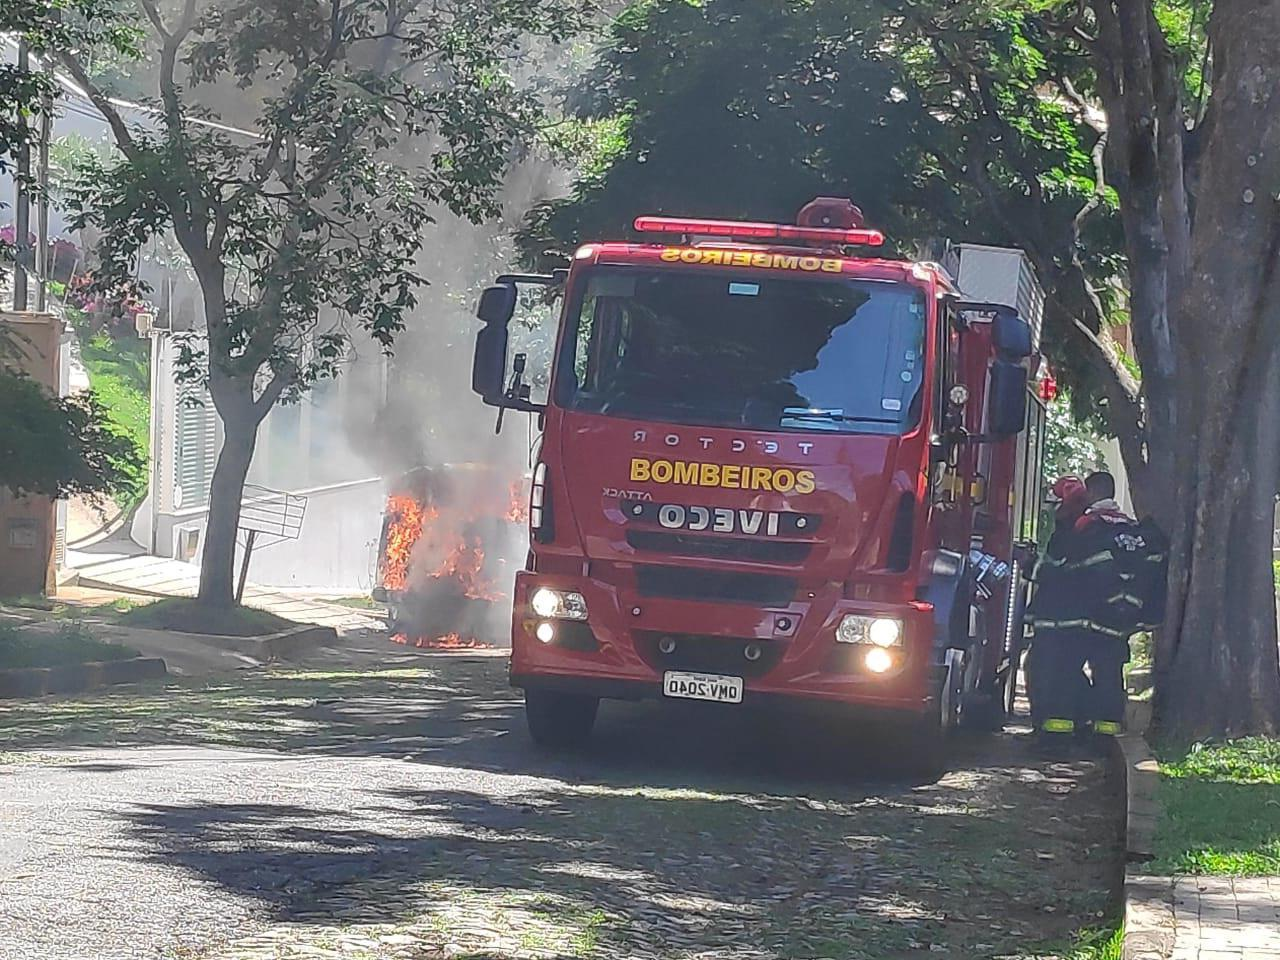Fire: (378, 489, 438, 590), (447, 538, 512, 614), (420, 632, 495, 650), (512, 478, 531, 532), (388, 634, 408, 646)
